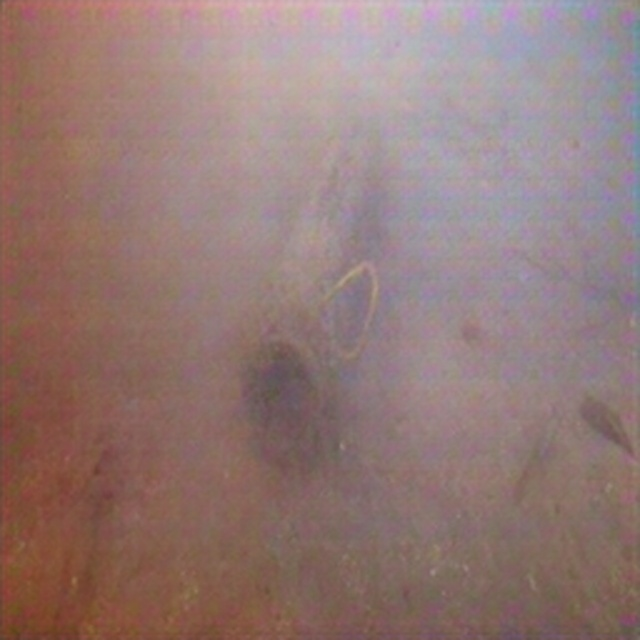mine: (245, 124, 383, 471)
